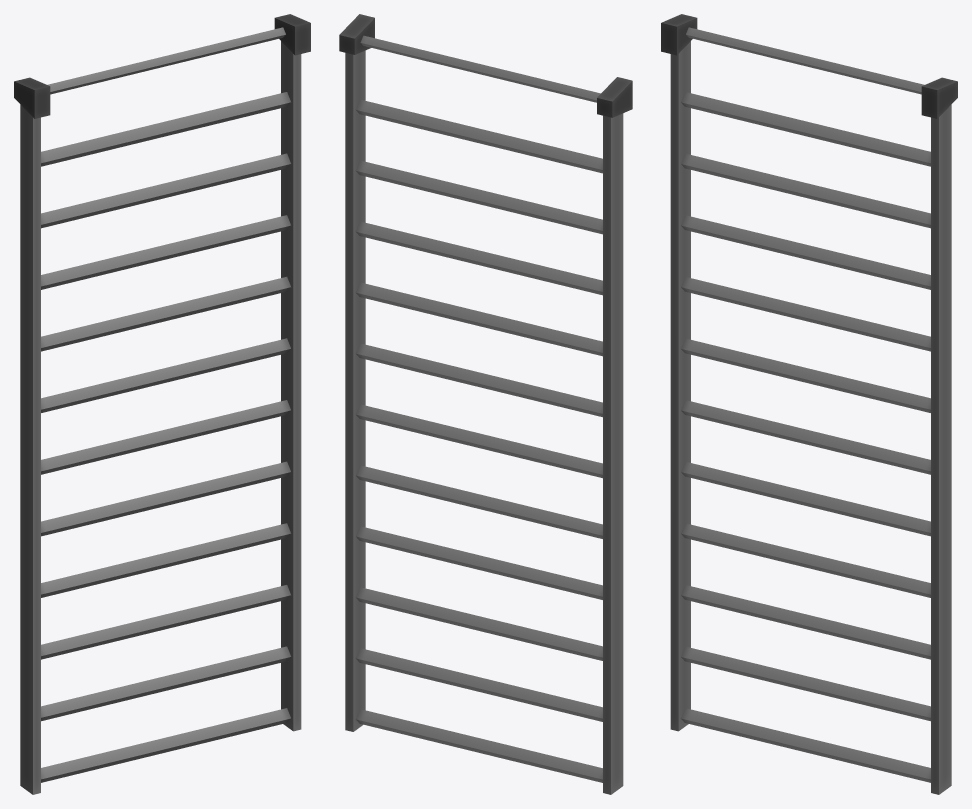
The model's file is Libra_Ladder_1.obj.
The picture shows the model from 3 angles, left to right: view 1: azimuth 30°, elevation 25°; view 2: azimuth 150°, elevation 25°; view 3: azimuth 330°, elevation 25°; orthographic projection.
Parts seen in each view (by area): view 1: Libra_Ladder_1; view 2: Libra_Ladder_1; view 3: Libra_Ladder_1.
Boxes of the visible parts, box(x1,y1,x2,y2) form: Libra_Ladder_1: box(14, 14, 310, 794); Libra_Ladder_1: box(339, 14, 632, 794); Libra_Ladder_1: box(661, 14, 957, 794).
Size of the model in its own units: 0.3078 by 0.756 by 0.0396.
